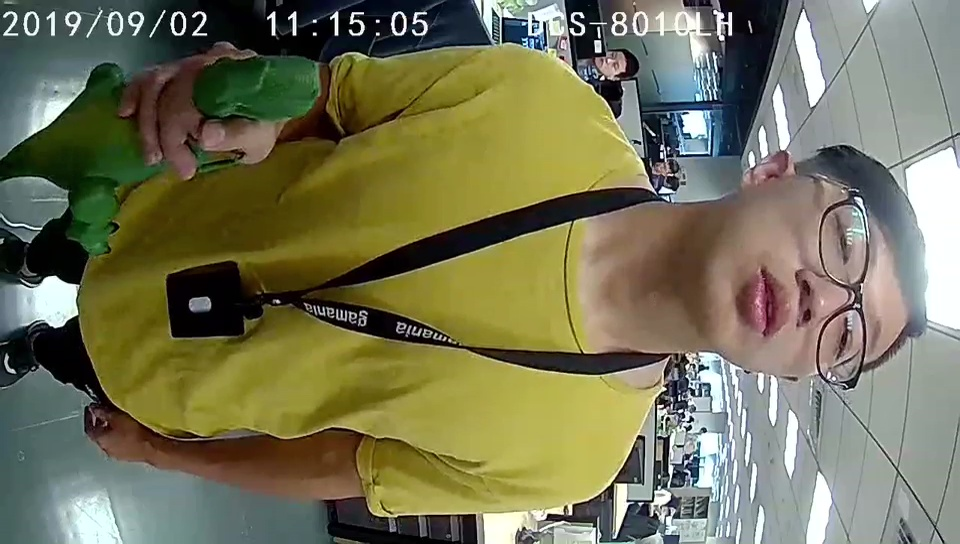rex: (60, 54, 323, 256)
